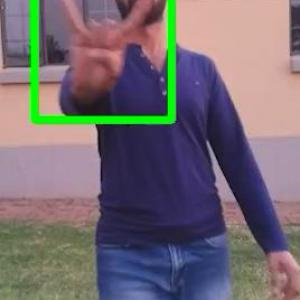takeoff-hand: (50, 0, 159, 99)
